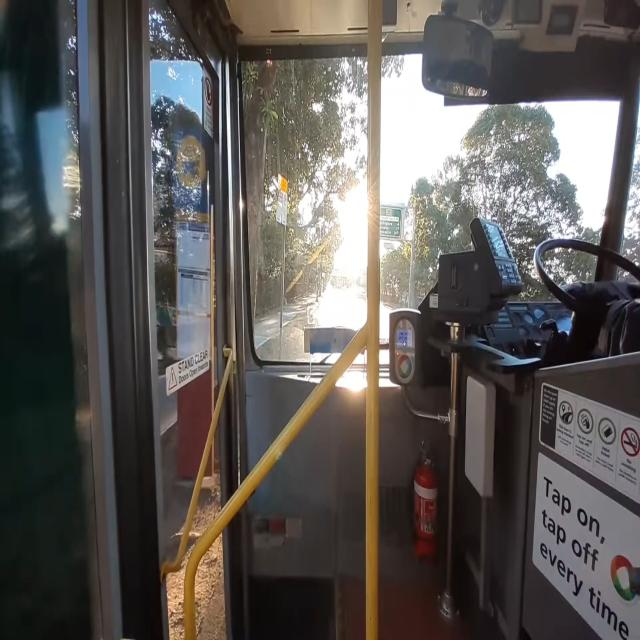bus-door: (31, 0, 250, 640)
